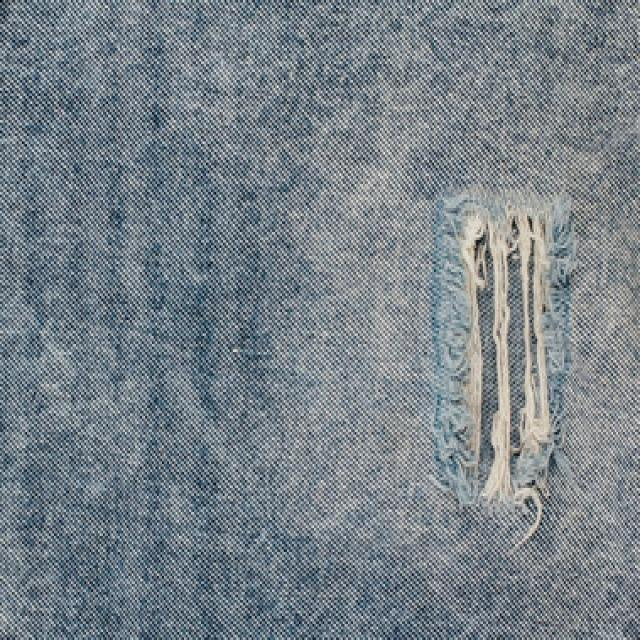Hole: (433, 190, 576, 510)
